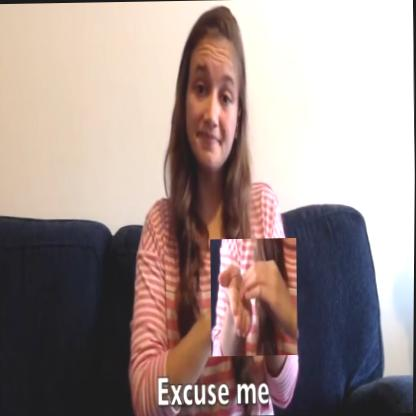ExcuseMe: (210, 237, 299, 356)
